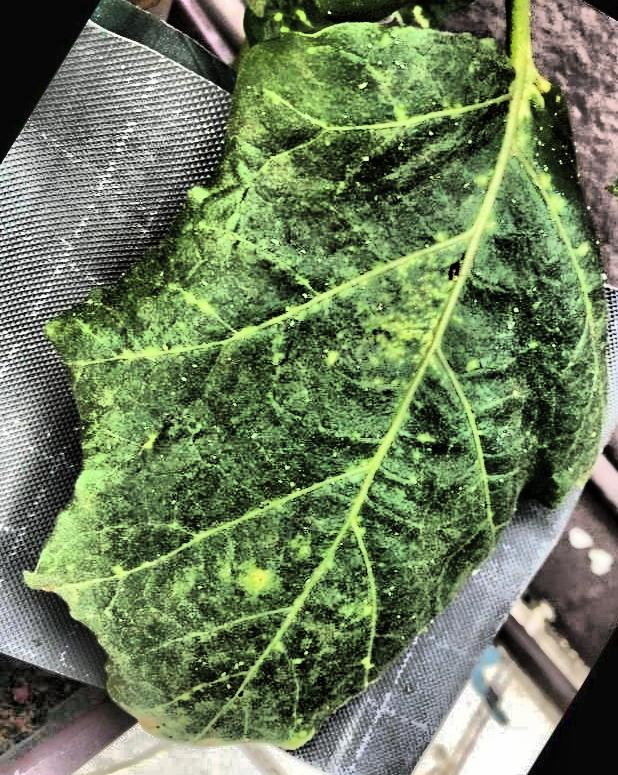Non-critical Stress: (1, 0, 618, 775)
